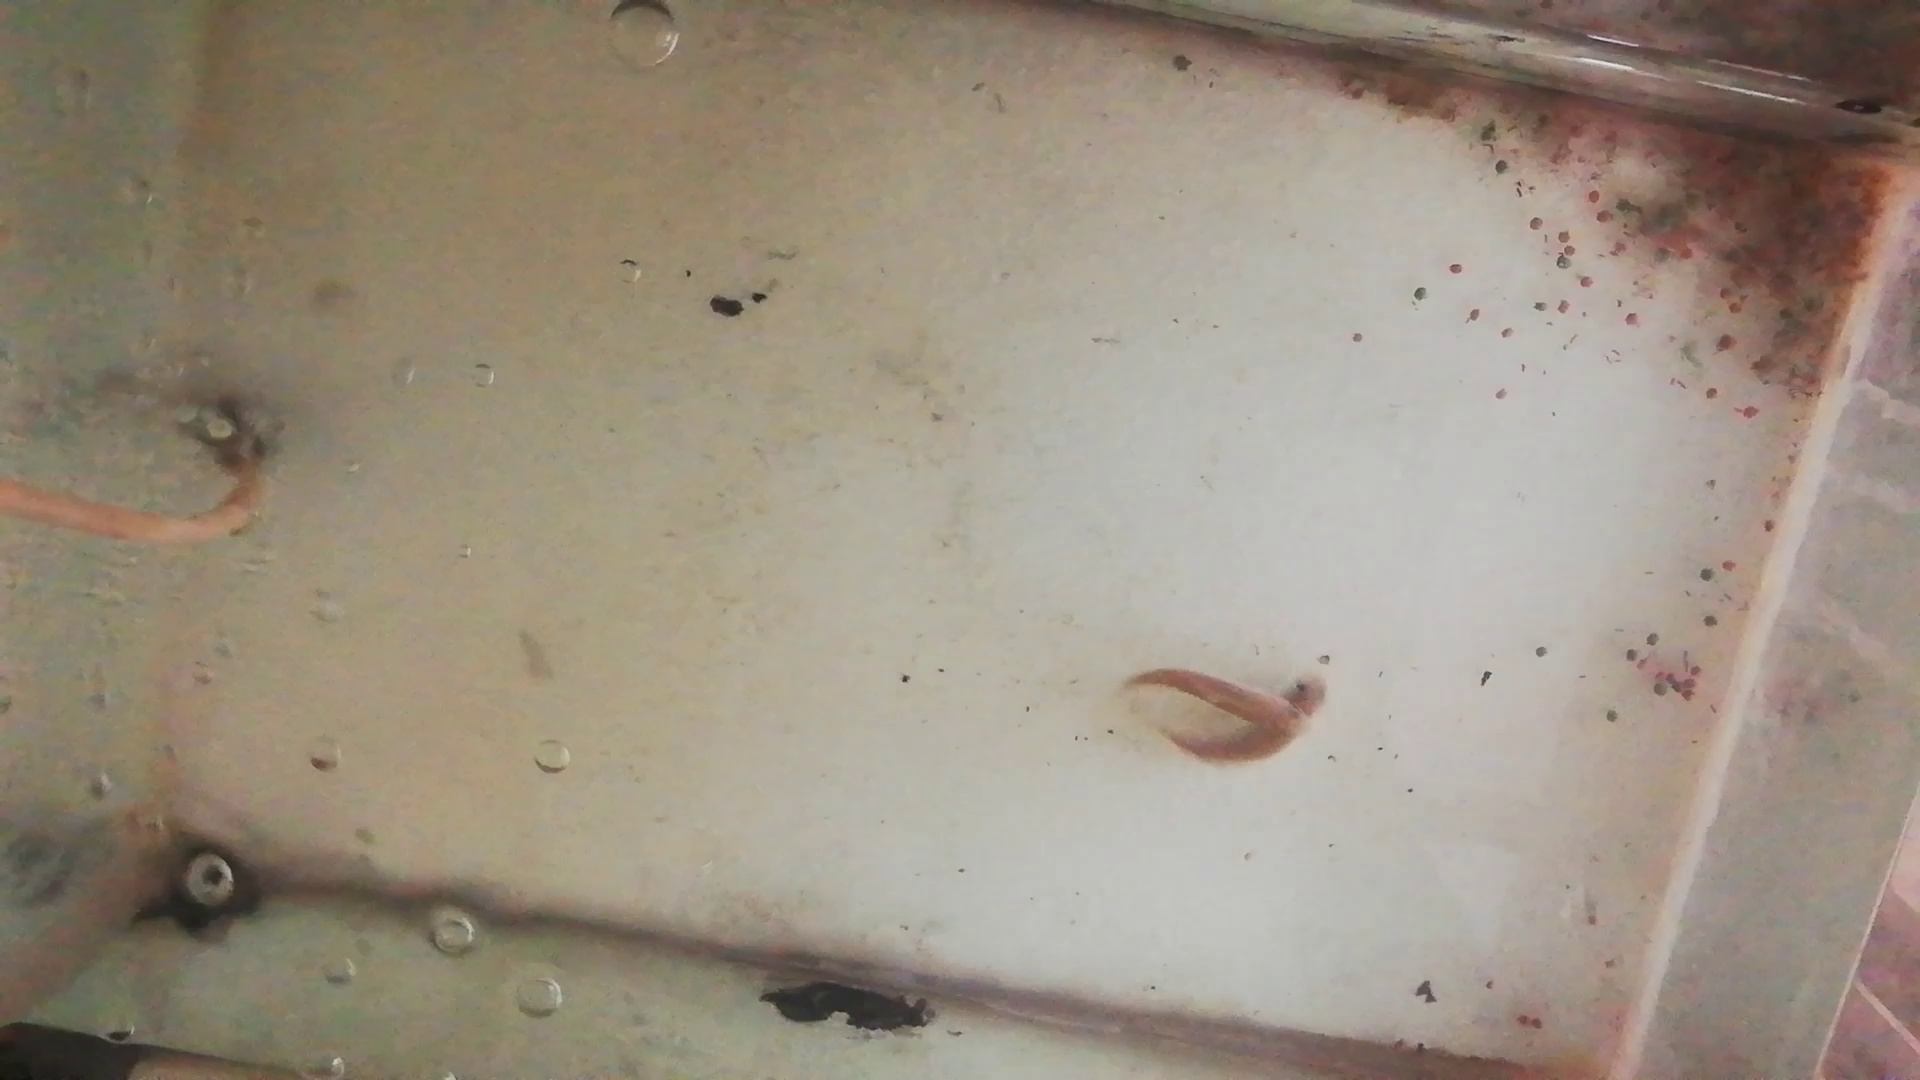fish: (1153, 676, 1332, 764), (1126, 669, 1309, 735)
